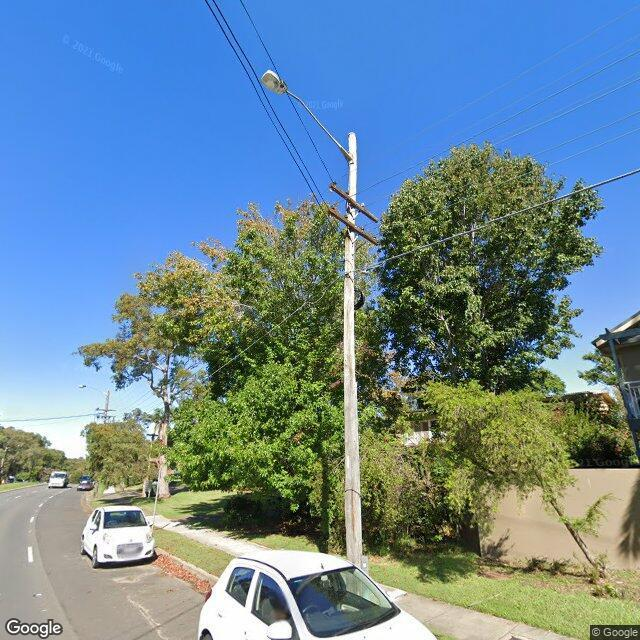crossarm: (329, 206, 379, 246), (329, 184, 379, 224), (96, 408, 117, 412), (96, 415, 116, 419)
streetlight: (260, 70, 352, 164), (78, 384, 108, 397)
timber-pole: (344, 133, 362, 572), (103, 389, 110, 424)
